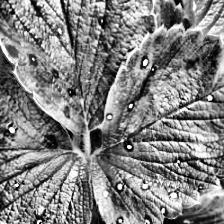Leaf Spot: (90, 23, 224, 224), (0, 0, 158, 136), (0, 48, 96, 224), (82, 202, 117, 224)
